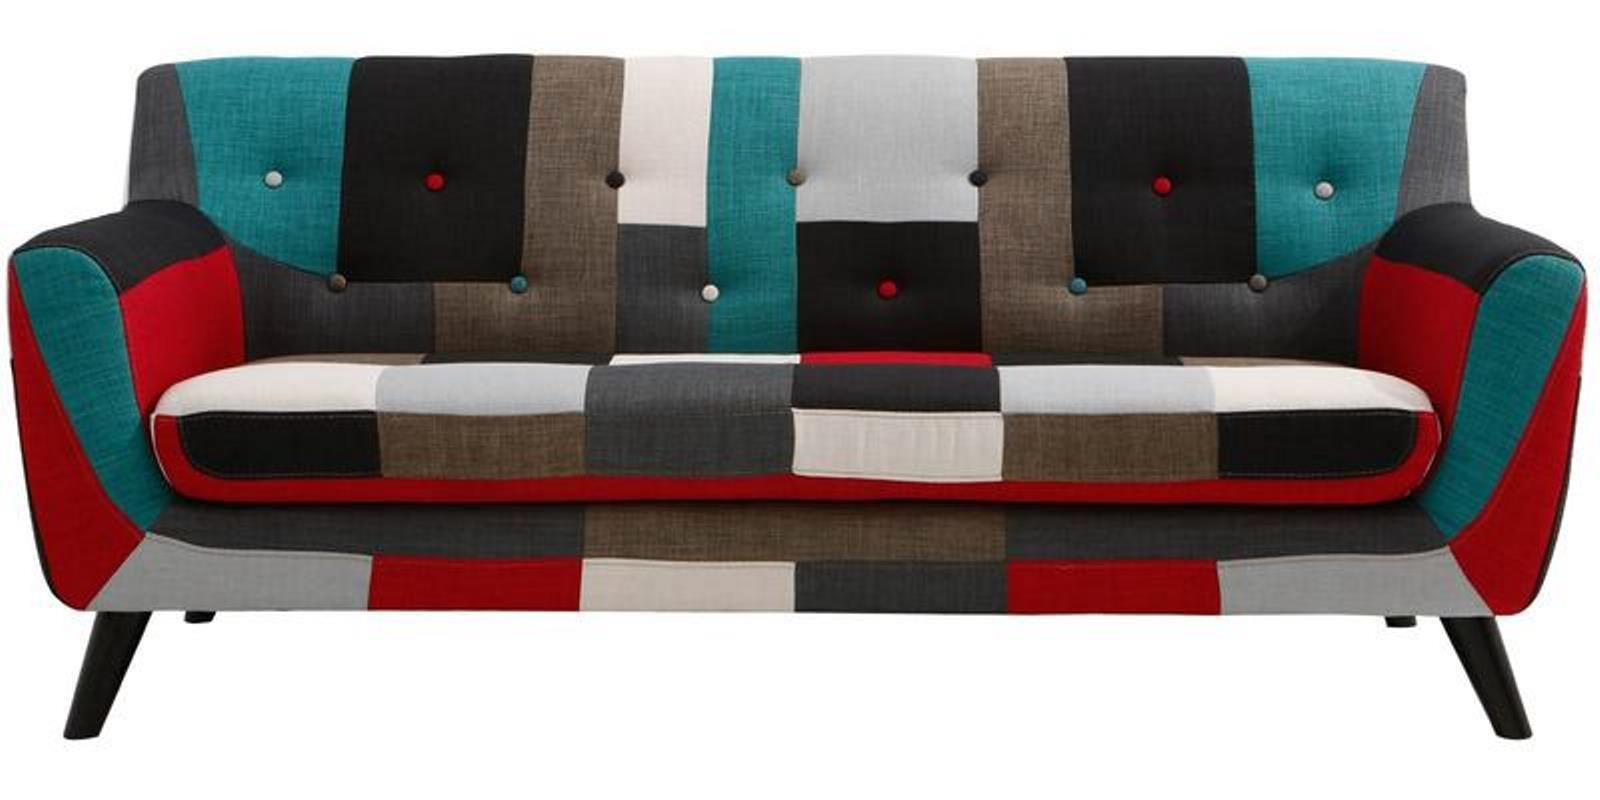Frida Three Seater Sofa in Red Multi Colour by CasaCraft: (7, 45, 1600, 791)
